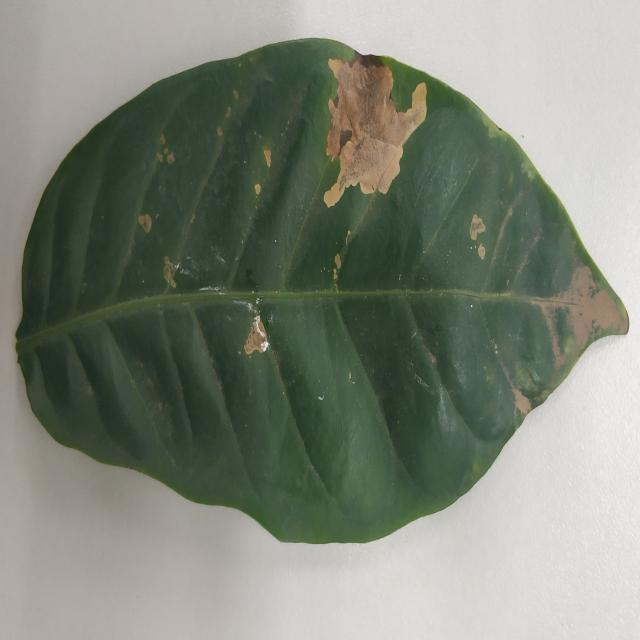Plaga-Minador: (14, 39, 631, 548)
